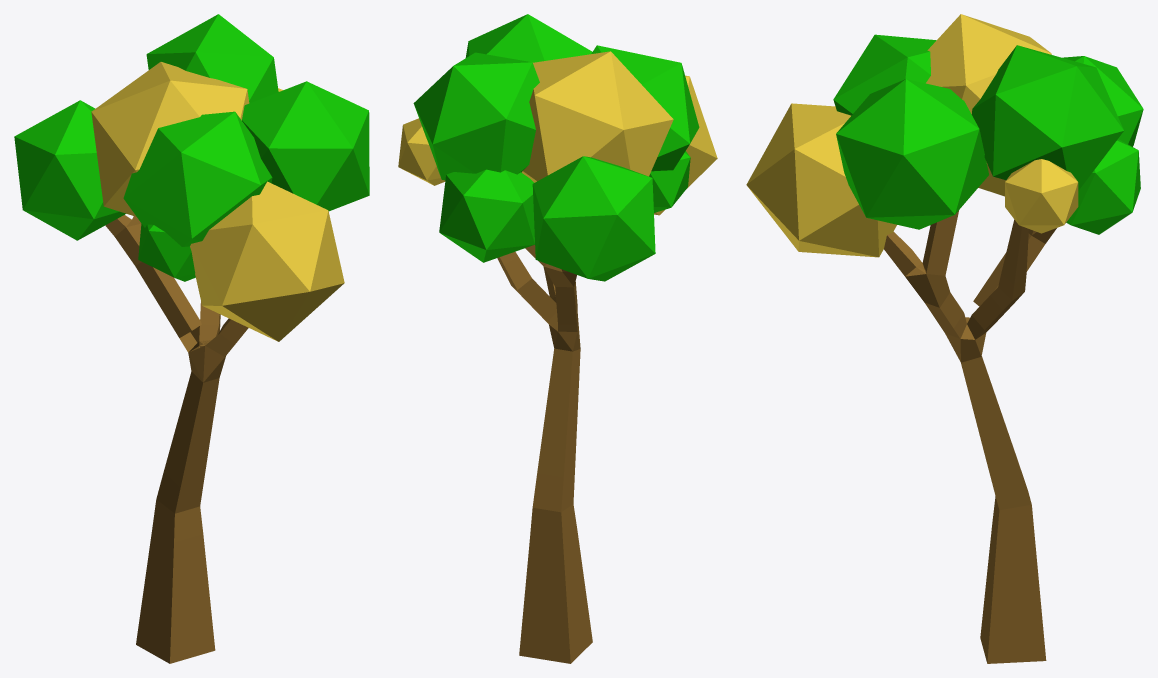
Rendered from Tree1.fbx.
The picture shows the model from 3 angles, left to right: view 1: azimuth 30°, elevation 25°; view 2: azimuth 150°, elevation 25°; view 3: azimuth 270°, elevation 25°; orthographic projection. The views are drawn at different scales.
Visible parts, largest first — view 1: Cube, Icosphere, Icosphere.007, Icosphere.001, Icosphere.006, Icosphere.004, Icosphere.005, Icosphere.008; view 2: Cube, Icosphere.006, Icosphere.004, Icosphere.005, Icosphere.003, Icosphere.007, Icosphere.001, Icosphere.002, Icosphere, Icosphere.008; view 3: Cube, Icosphere.001, Icosphere.005, Icosphere, Icosphere.006, Icosphere.007, Icosphere.003, Icosphere.002, Icosphere.004.
Boxes of the visible parts, x1,y1,x2,y2 form: Cube: (105,215,248,663); Icosphere: (190,181,344,341); Icosphere.007: (123,111,272,246); Icosphere.001: (242,81,369,211); Icosphere.006: (91,62,249,216); Icosphere.004: (14,100,125,240); Icosphere.005: (146,14,278,103); Icosphere.008: (138,223,195,281); Cube: (497,245,592,663); Icosphere.006: (521,51,673,182); Icosphere.004: (532,156,655,281); Icosphere.005: (413,52,539,180); Icosphere.003: (439,169,534,262); Icosphere.007: (591,45,699,171); Icosphere.001: (465,14,592,62); Icosphere.002: (398,118,445,185); Icosphere: (654,75,717,215); Icosphere.008: (649,151,690,212); Cube: (884,210,1056,663); Icosphere.001: (836,79,988,229); Icosphere.005: (971,45,1123,190); Icosphere: (746,103,896,257); Icosphere.006: (926,14,1051,196); Icosphere.007: (833,34,936,115); Icosphere.003: (1066,139,1140,234); Icosphere.002: (1005,159,1078,233); Icosphere.004: (1062,56,1143,146).
Size of the model in its own units: 422 by 894 by 518.
